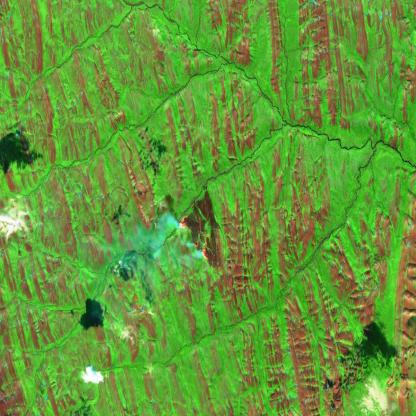fire: (174, 213, 213, 267)
